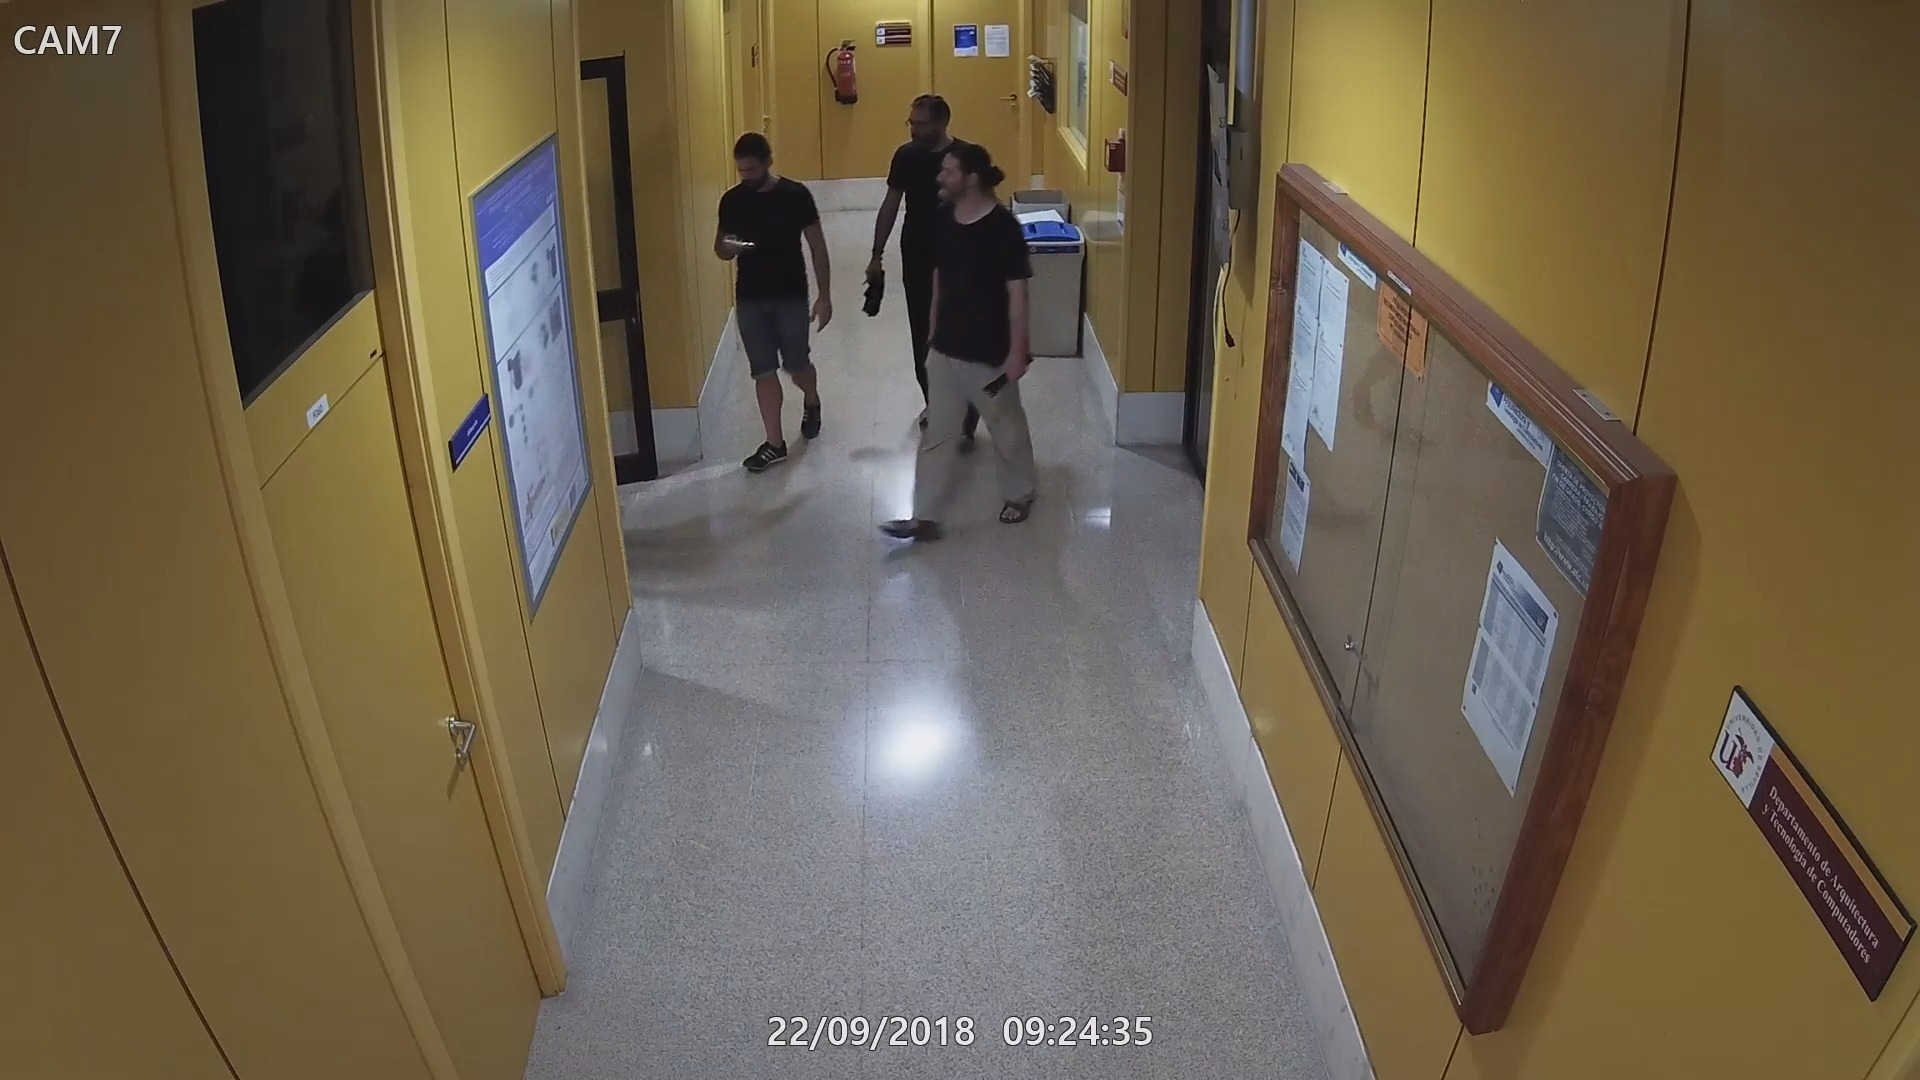Handgun: (716, 233, 757, 262)
